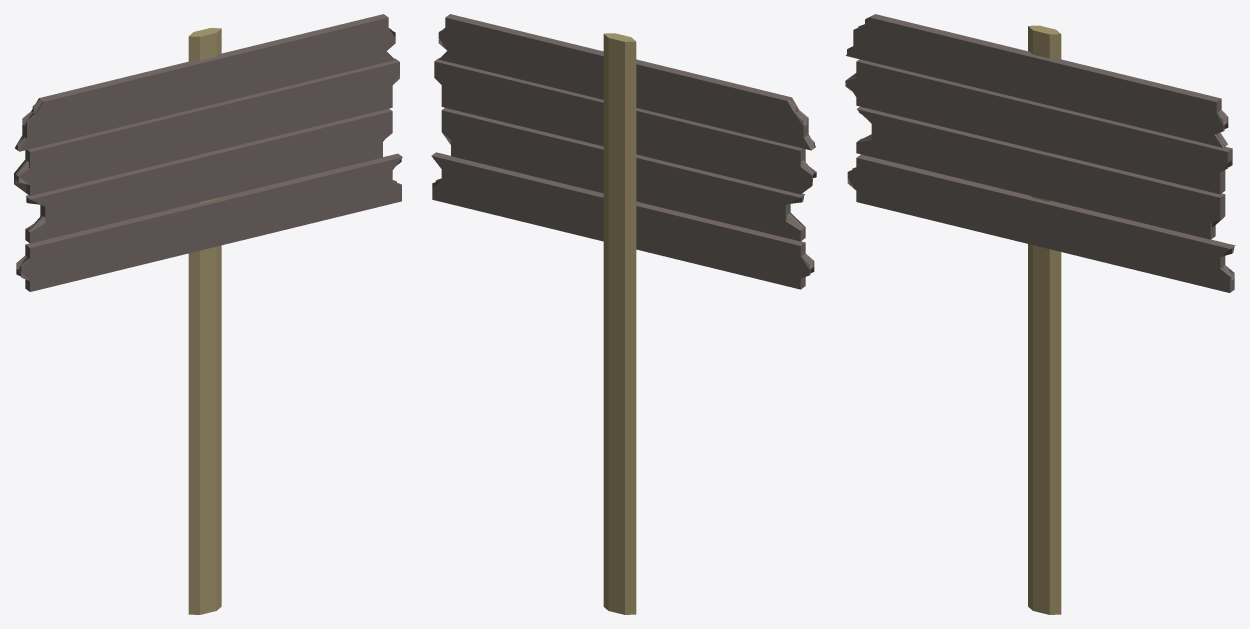
File: menu_tronk.fbx
3 views of the same model, side by side, from view 1: azimuth 30°, elevation 25°; view 2: azimuth 150°, elevation 25°; view 3: azimuth 330°, elevation 25° (orthographic).
Parts seen in each view (by area): view 1: pCube4, pCube2, pCube1, pCube3, pCylinder1; view 2: pCylinder1, pCube4, pCube2, pCube1, pCube3; view 3: pCube4, pCube2, pCube1, pCube3, pCylinder1.
Boxes of the visible parts, x1,y1,x2,y2 form: pCube4: (16,153,402,291); pCube2: (14,14,395,151); pCube1: (14,58,399,195); pCube3: (25,108,392,243); pCylinder1: (188,28,221,614); pCylinder1: (603,33,636,614); pCube4: (431,152,814,289); pCube2: (438,14,815,150); pCube1: (434,58,816,194); pCube3: (441,108,805,241); pCube4: (847,154,1235,292); pCube2: (846,14,1228,147); pCube1: (845,59,1232,194); pCube3: (856,106,1225,239); pCylinder1: (1028,25,1061,614).
Size of the model in its own units: 2.76 by 3.97 by 0.1171.
